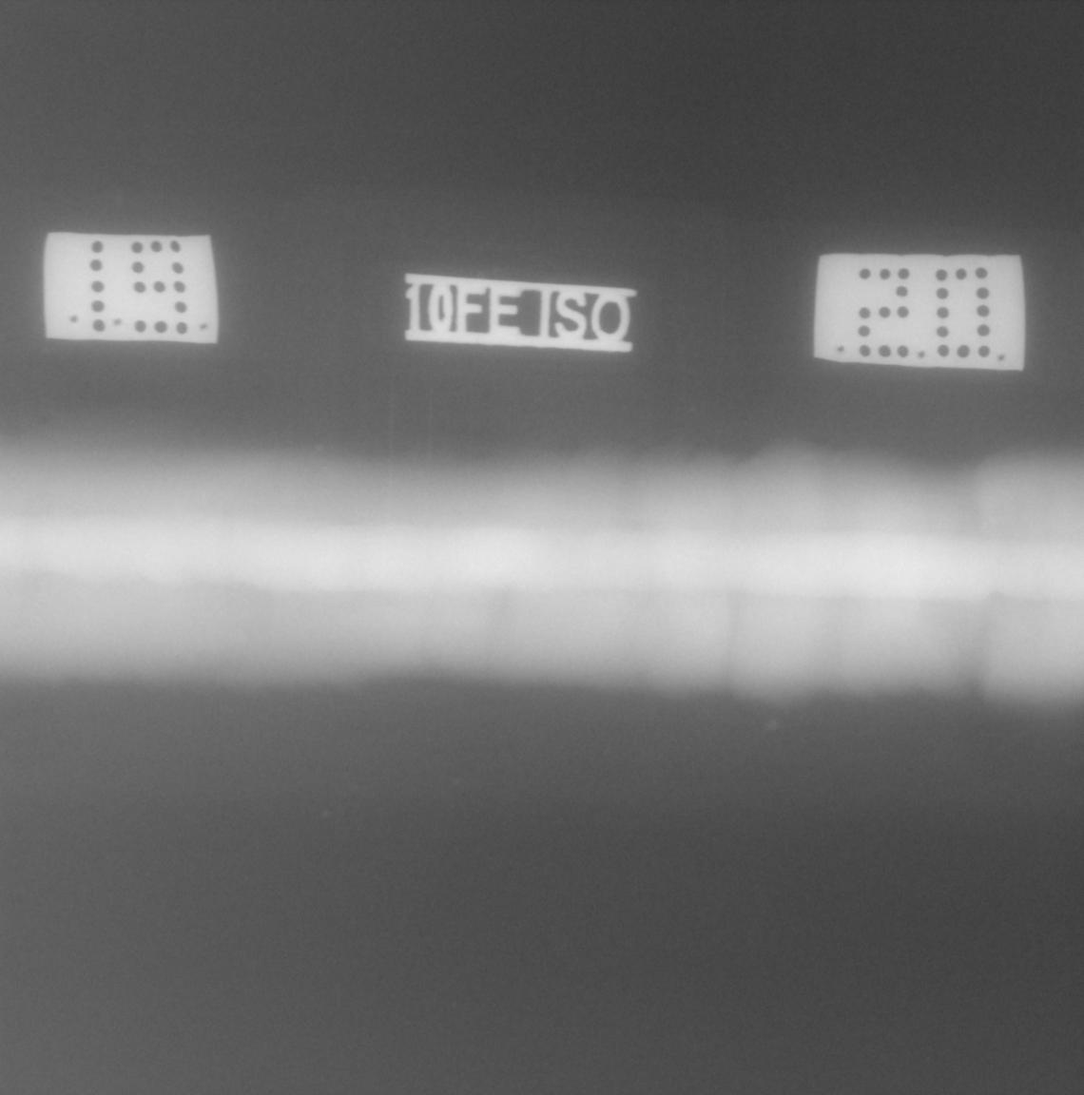Pore/Porosity: (38, 419, 49, 424)
